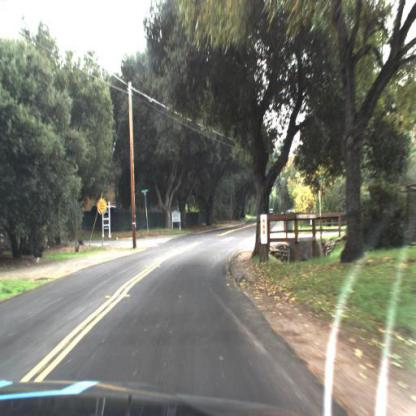car: (267, 202, 280, 222), (269, 207, 277, 219)
